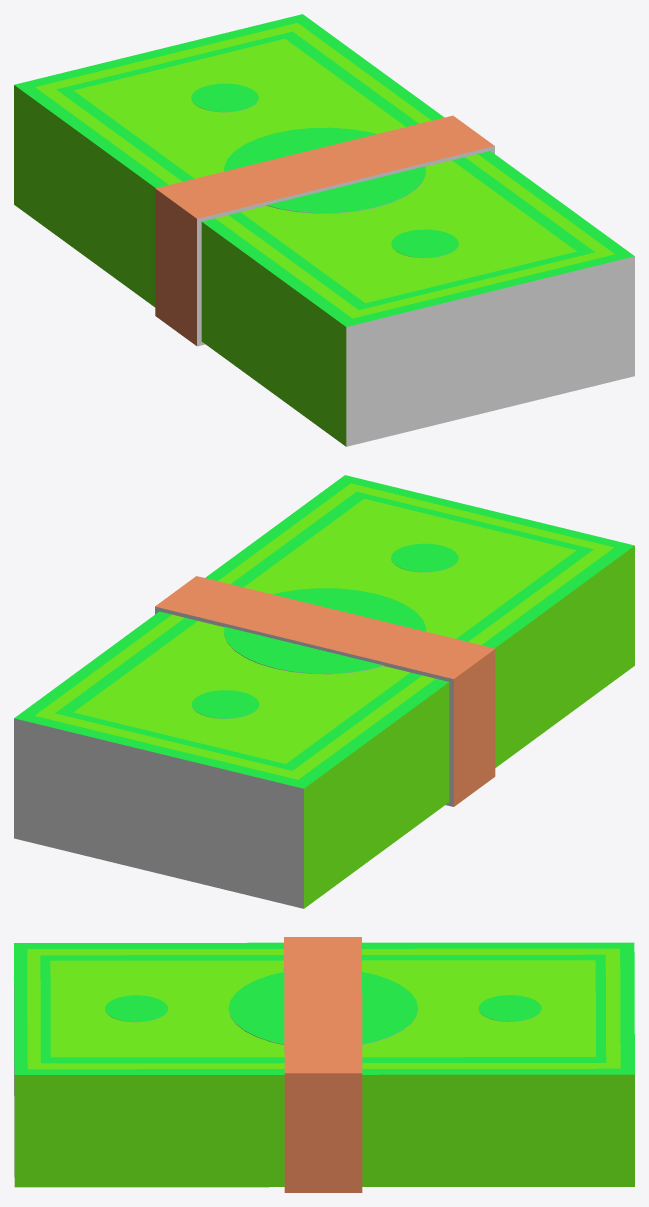
File: money.fbx
3 renders of one model, top to bottom at view 1: azimuth 30°, elevation 25°; view 2: azimuth 150°, elevation 25°; view 3: azimuth 270°, elevation 25°, orthographic. The views are drawn at different scales.
Visible parts, largest first — view 1: Money; view 2: Money; view 3: Money.
Part boxes in pixels (left/top/right/bottom): Money: left=14, top=14, right=634, bottom=446; Money: left=14, top=475, right=634, bottom=908; Money: left=14, top=937, right=634, bottom=1192.
Size of the model in its own units: 0.1051 by 0.043 by 0.2024.
